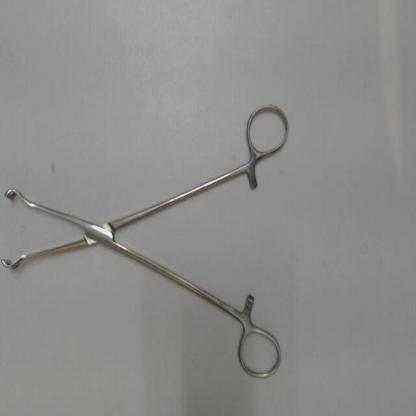8 Babcock Tissue Forceps: (0, 97, 298, 387)
